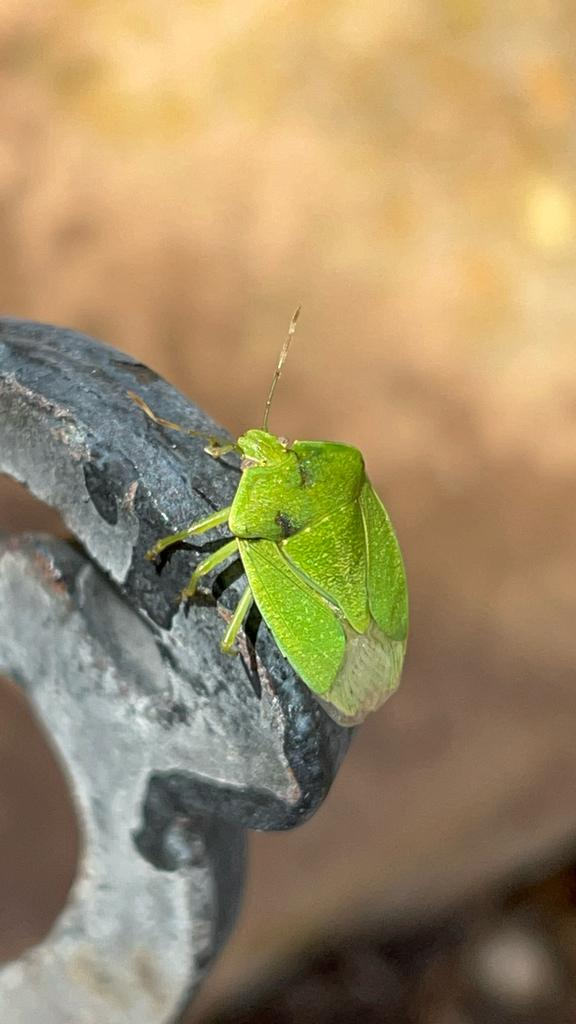stink_bugs: (39, 257, 529, 793)
